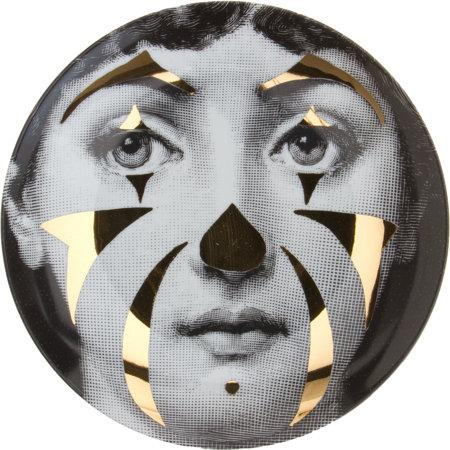person: (30, 18, 422, 442)
